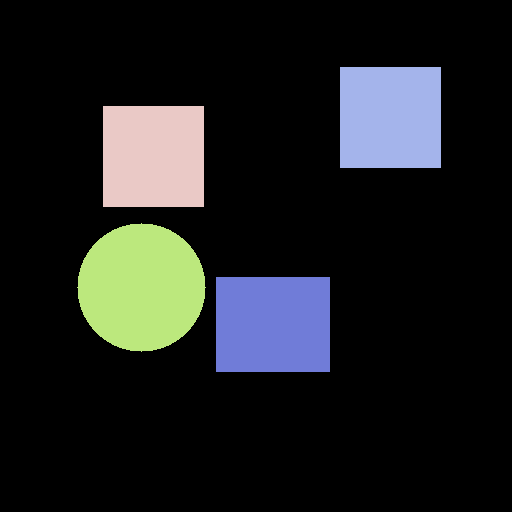circle: (77, 223, 205, 351)
rectangle: (216, 277, 329, 371)
square: (103, 106, 203, 206), (340, 67, 440, 167)
